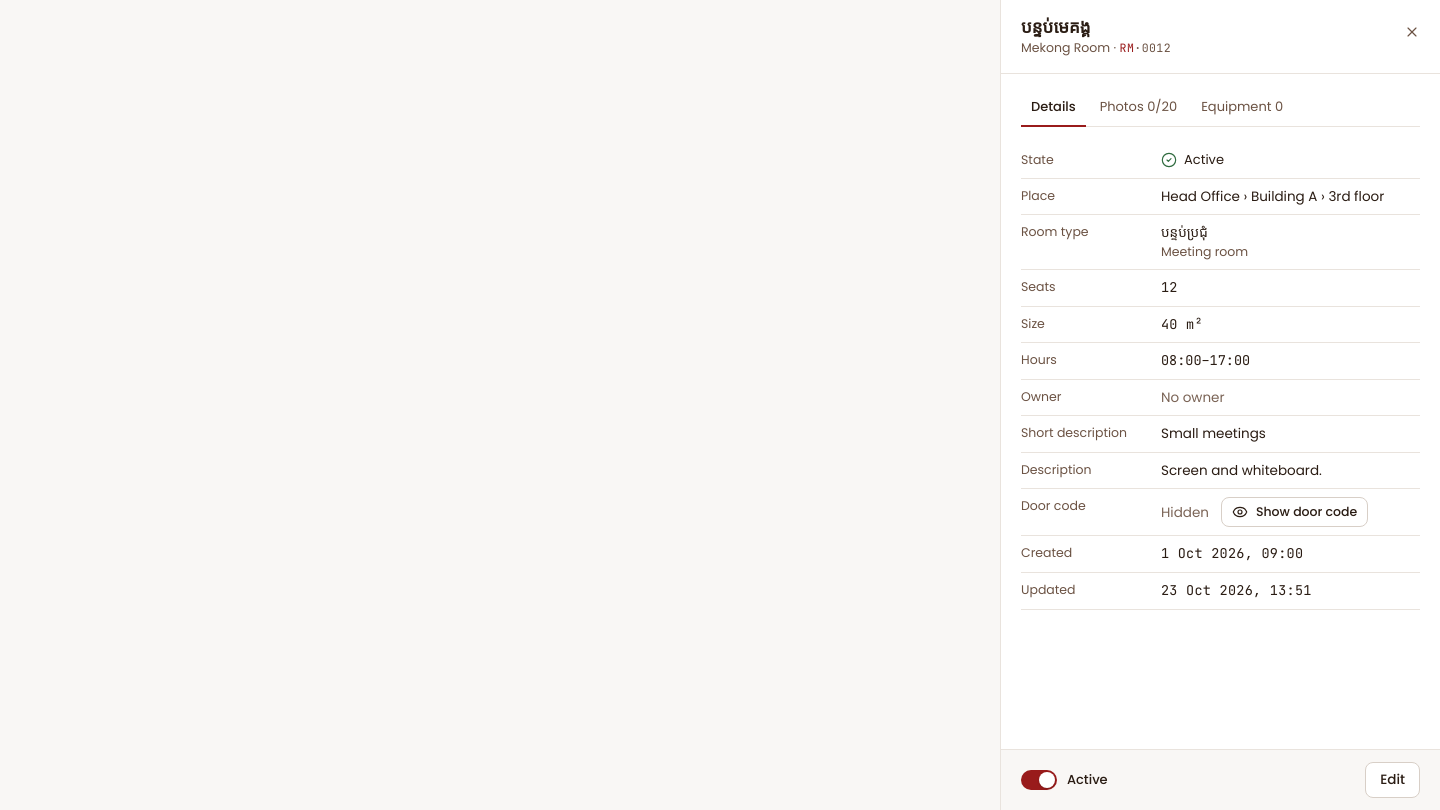
it: RoomDetailPanel tabs › shows the photo tools in the Photos tab
This screenshot has width=1440, height=810.
Click the tab "Photos 0/20" at (1138, 108), box [1090,90,1187,127]
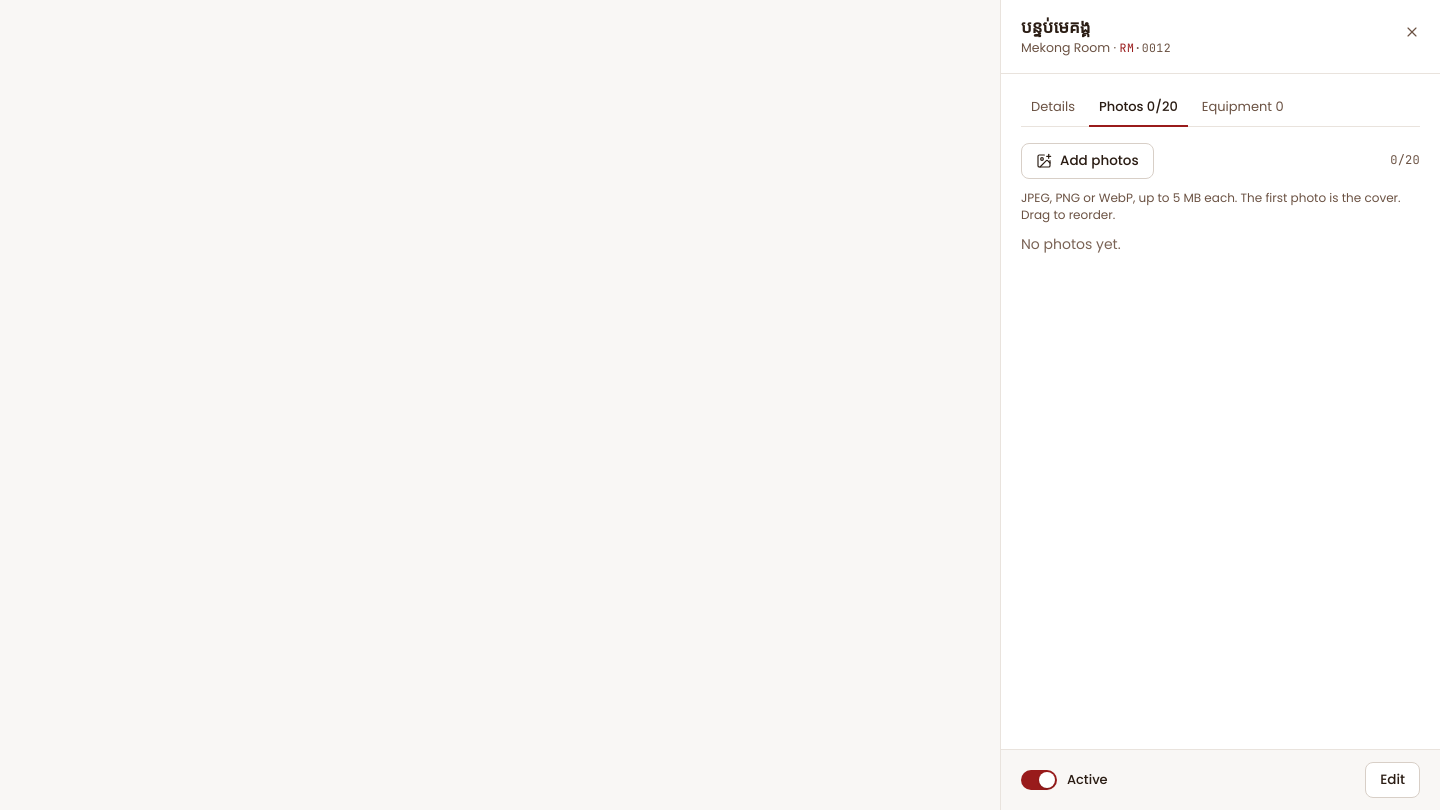
Result: the panel with id "tabpanel-photos" shows "Add photos" at [1060,151,1139,170]
Result: the panel with id "tabpanel-photos" shows "0/20" at [1390,152,1420,168]
